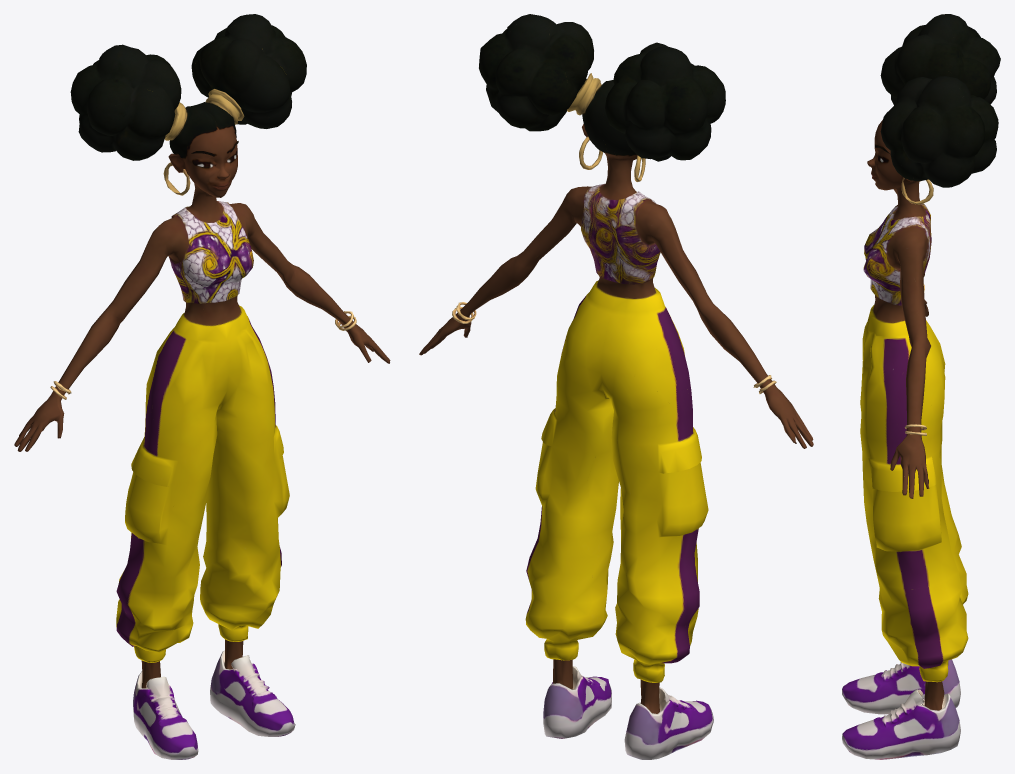
Rendered from awa_rt2.glb.
3 renders of one model, left to right at view 1: azimuth 30°, elevation 25°; view 2: azimuth 150°, elevation 25°; view 3: azimuth 270°, elevation 25°, orthographic. The views are drawn at different scales.
Parts seen in each view (by area): view 1: geometry_0; view 2: geometry_0; view 3: geometry_0.
Boxes of the visible parts, left/top/right/bottom form: geometry_0: left=14, top=14, right=390, bottom=759; geometry_0: left=419, top=14, right=813, bottom=759; geometry_0: left=842, top=14, right=1000, bottom=759.
Size of the model in its own units: 0.5415 by 0.9507 by 0.2007.
Materials: 1 (1 with a texture image).
